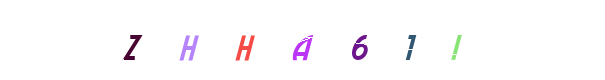1: (319, 0, 399, 80)
6: (263, 0, 343, 80)
A: (262, 0, 342, 80)
H: (187, 0, 267, 80), (205, 0, 285, 80)
I: (414, 0, 494, 80)
Z: (92, 0, 172, 80)
